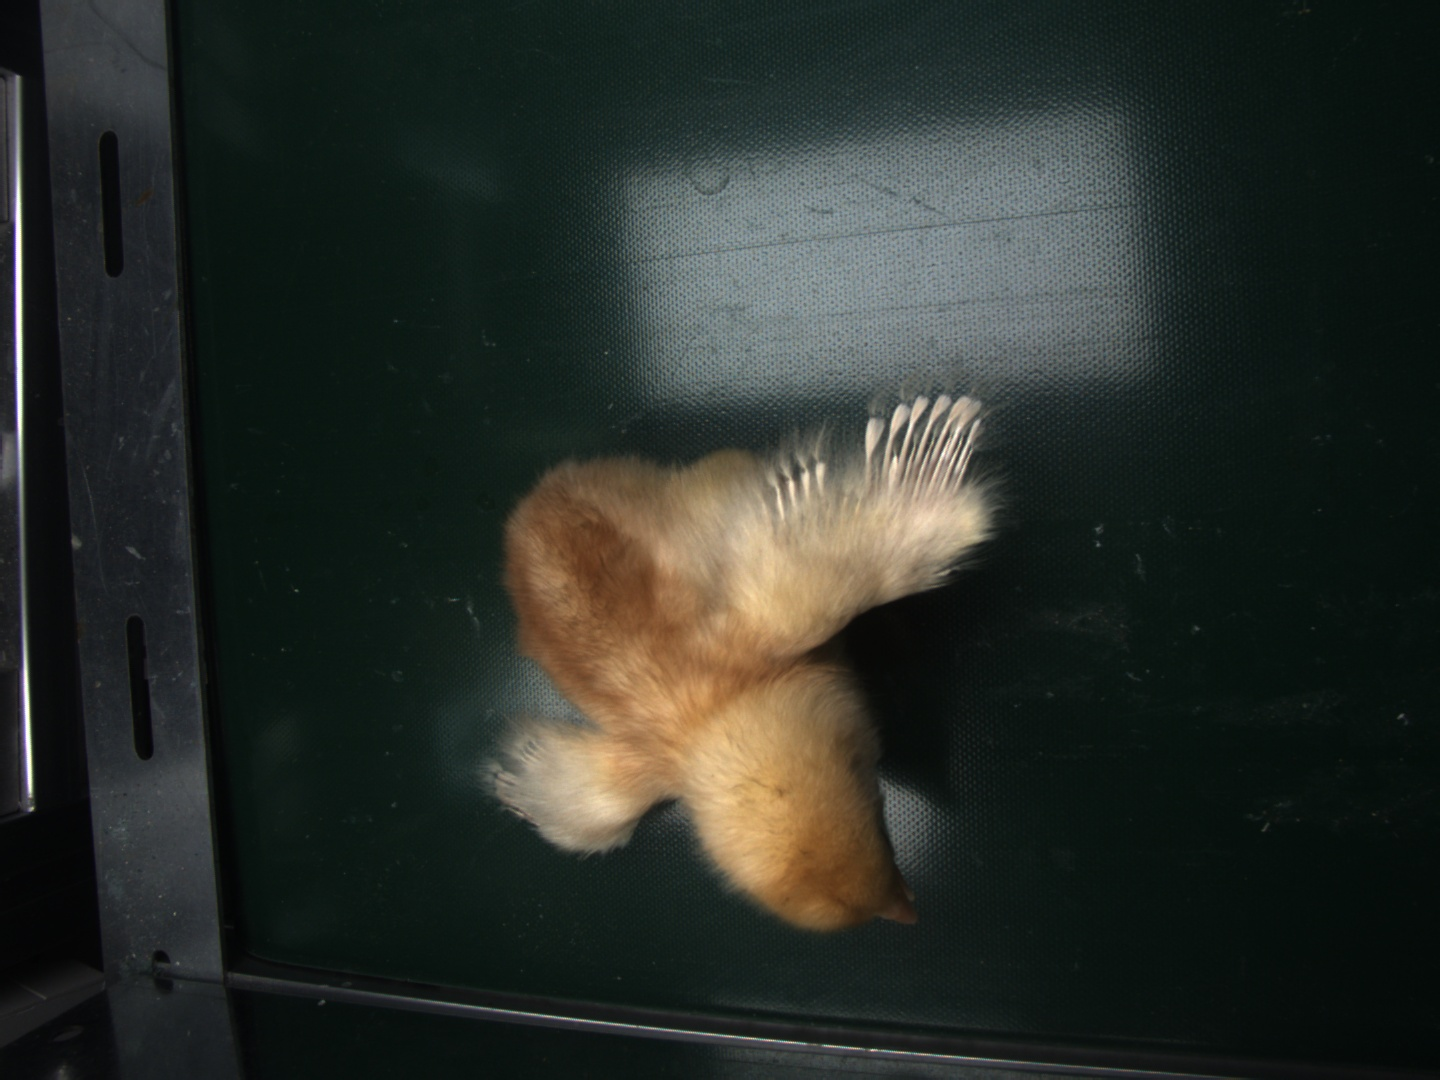female: (876, 390, 983, 486)
